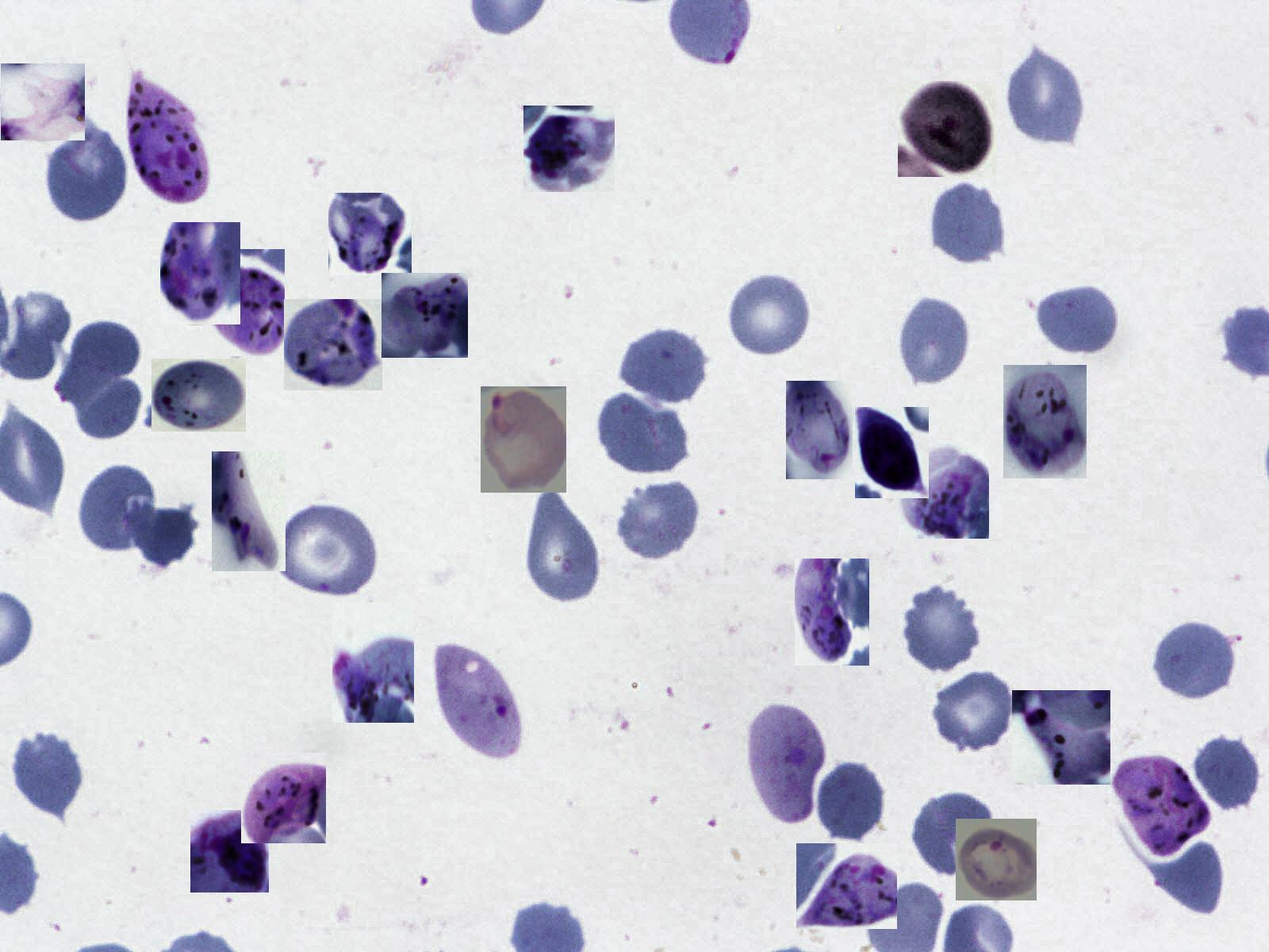Infected: (431, 642, 525, 759), (126, 74, 209, 205), (1111, 754, 1210, 860), (744, 701, 830, 822), (332, 602, 414, 723), (1003, 365, 1087, 478), (898, 81, 996, 177), (1012, 690, 1110, 785), (481, 386, 566, 493), (284, 299, 382, 390), (212, 451, 286, 571), (796, 843, 897, 929), (899, 443, 989, 539), (205, 249, 285, 356), (160, 222, 240, 324), (795, 559, 869, 666), (523, 106, 615, 192), (241, 753, 326, 843), (381, 273, 468, 358), (328, 193, 412, 275), (152, 359, 246, 432), (855, 407, 929, 498), (786, 381, 853, 479), (956, 819, 1037, 900), (190, 810, 269, 892), (1, 63, 85, 140)
Uninfected: (277, 501, 379, 602), (43, 123, 130, 225), (1003, 46, 1087, 149), (527, 486, 599, 602), (596, 387, 692, 473), (910, 787, 996, 883), (75, 462, 158, 557), (618, 324, 710, 409), (53, 319, 142, 406), (900, 582, 982, 675), (727, 272, 814, 359), (931, 667, 1018, 753), (1151, 619, 1238, 704), (61, 352, 144, 440), (894, 293, 970, 388), (614, 481, 700, 563), (928, 179, 1007, 268), (1146, 835, 1228, 919), (8, 734, 85, 823), (1034, 281, 1121, 357), (1189, 729, 1262, 818), (815, 757, 888, 844), (121, 501, 198, 570)
